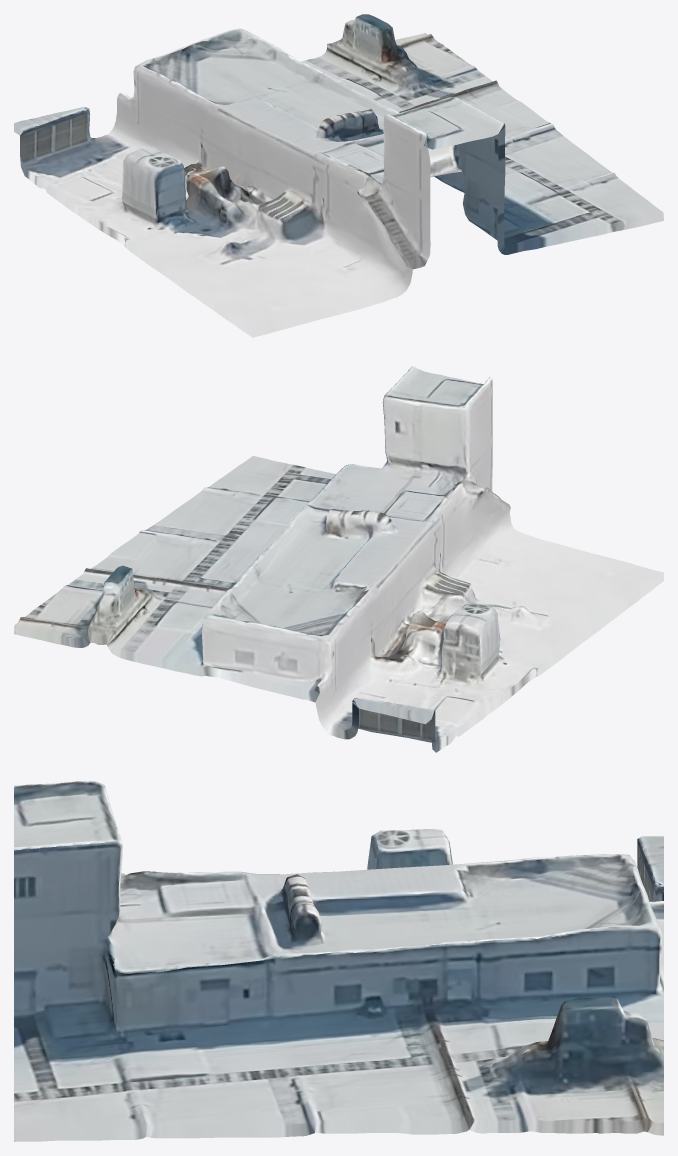
File: z20-167758-405243-h0-yup-uvflip-v3-world.glb
3 views of the same model, one above another, from view 1: azimuth 30°, elevation 25°; view 2: azimuth 150°, elevation 25°; view 3: azimuth 270°, elevation 25° (orthographic). The views are drawn at different scales.
Bounding box in the file's own units: 30.2 × 11.8 × 30.32.
1 material, 1 textured.
